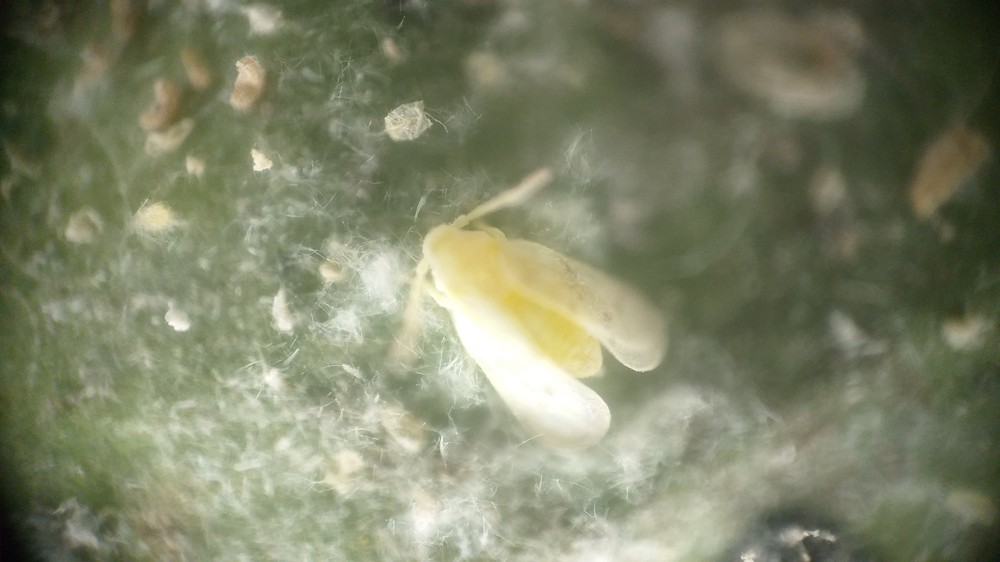Mosca Blanca: (357, 165, 694, 476)
